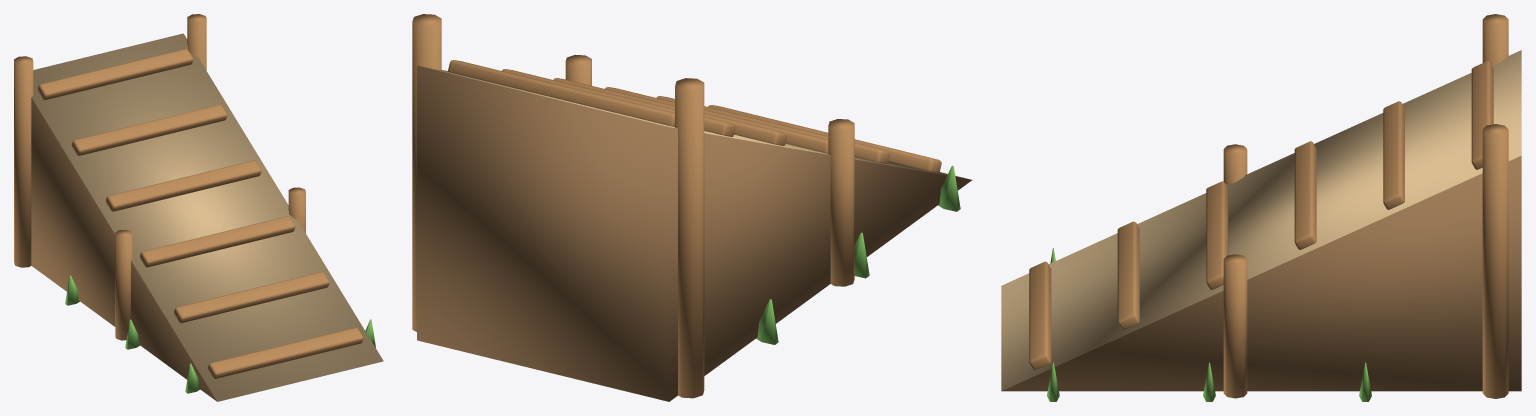
Rendered from ramp-built.glb.
3 renders of one model, left to right at view 1: azimuth 30°, elevation 25°; view 2: azimuth 150°, elevation 25°; view 3: azimuth 270°, elevation 25°, orthographic. The views are drawn at different scales.
Parts seen in each view (by area): view 1: ramp; view 2: ramp; view 3: ramp.
Part boxes in pixels (box(x1,y1,x2,y2)): ramp: box(14, 14, 383, 401); ramp: box(412, 14, 971, 401); ramp: box(1001, 14, 1521, 401).
Size of the model in its own units: 1.1 by 1.14 by 2.
